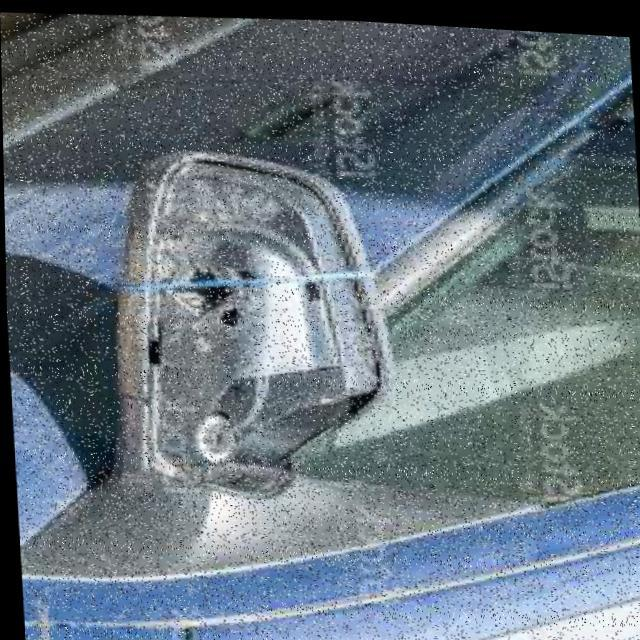Glass_Break: (65, 118, 414, 528)
